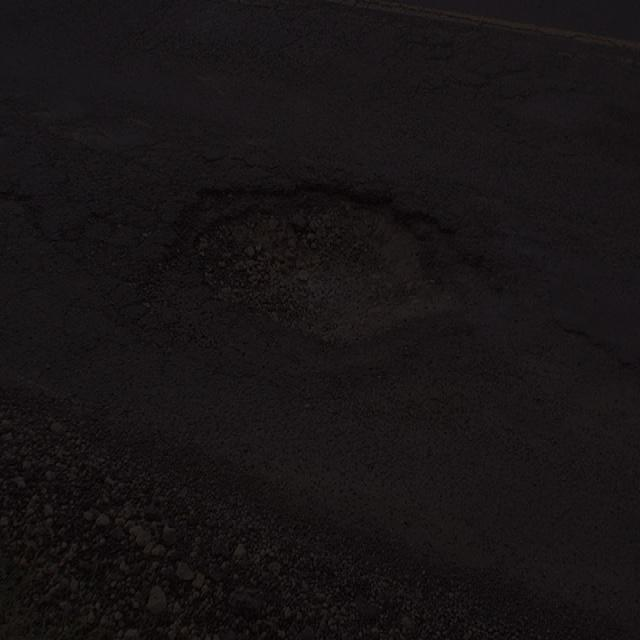Pothole: (146, 159, 460, 359)
